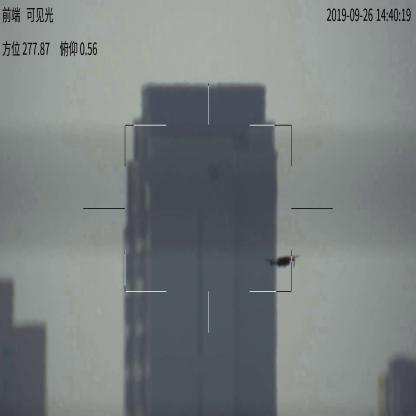uav: (269, 253, 301, 270)
